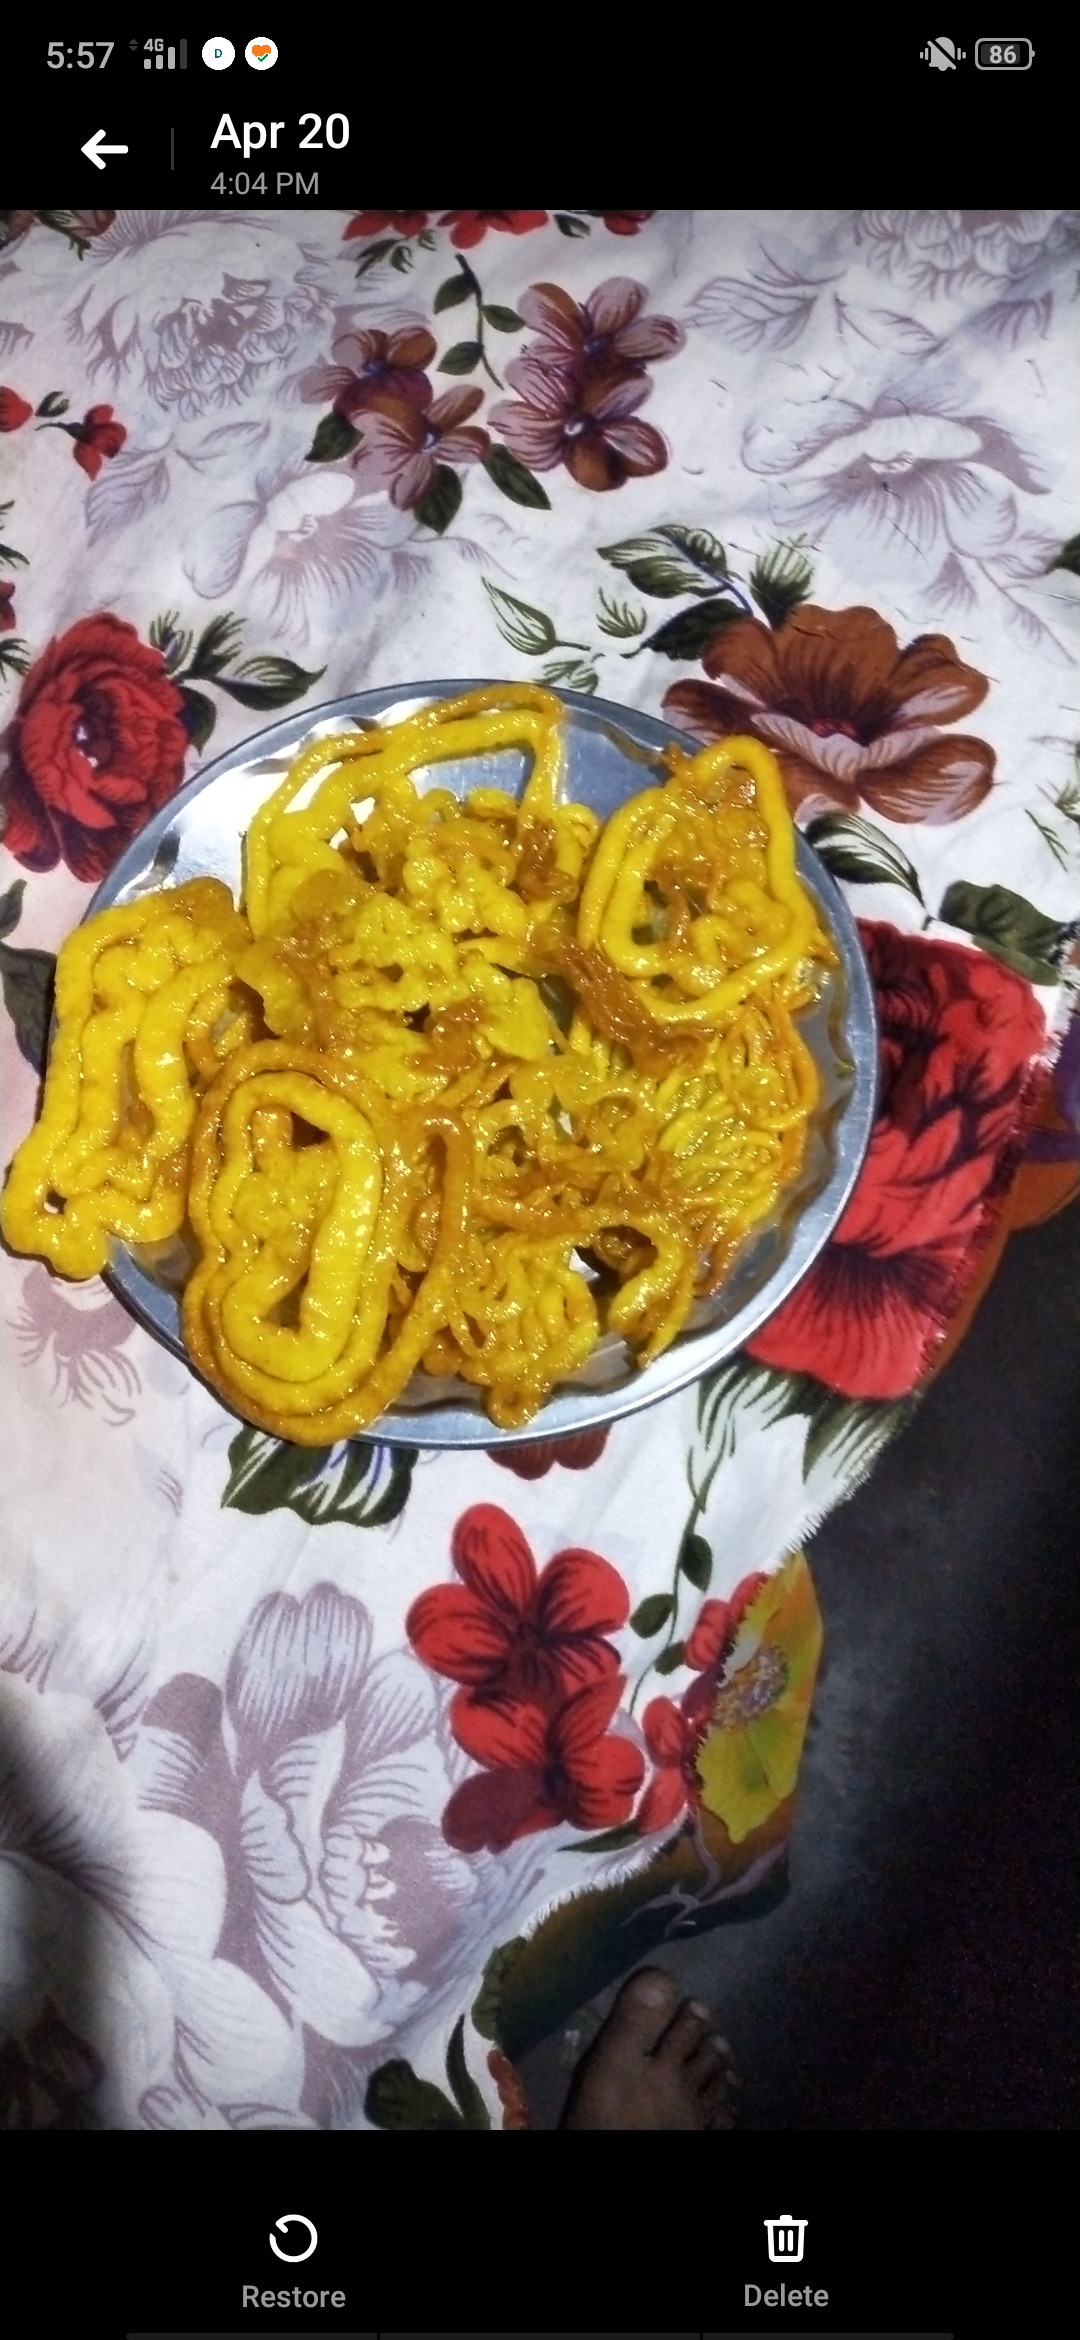food: (0, 673, 843, 1452)
